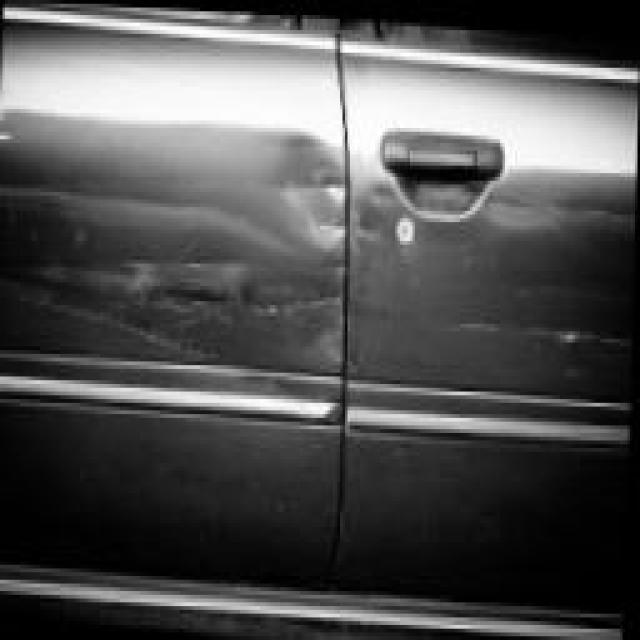Door: (0, 41, 639, 551)
